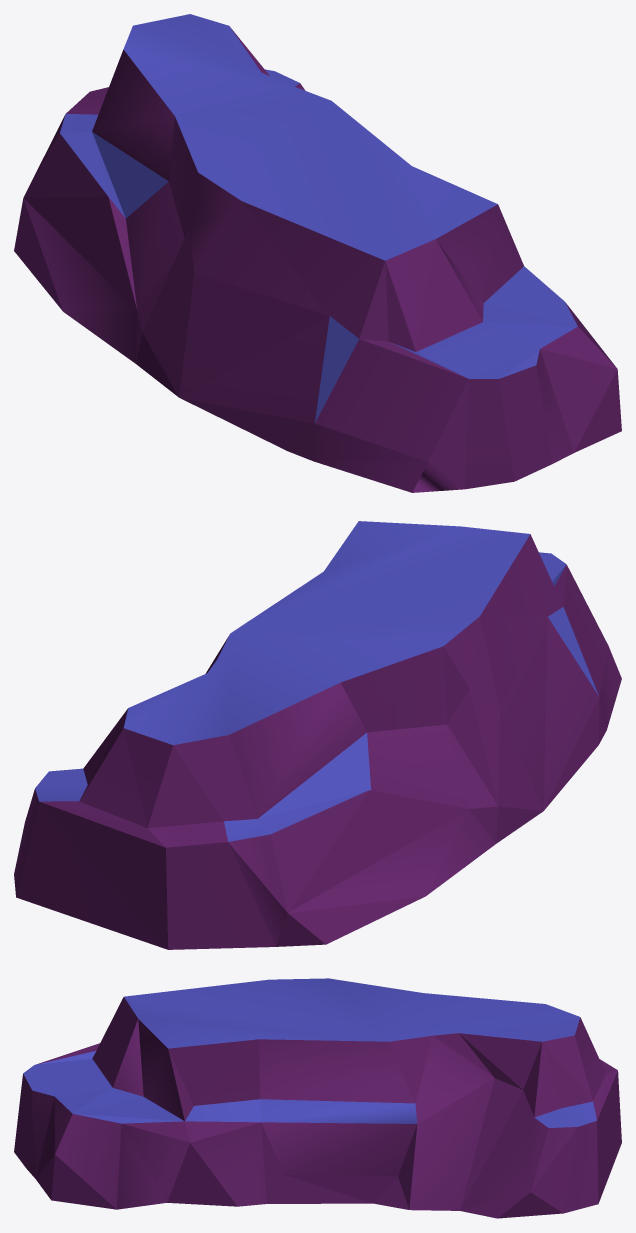
The model's file is Mountain_2.fbx.
The picture shows the model from 3 angles, top to bottom: view 1: azimuth 30°, elevation 25°; view 2: azimuth 150°, elevation 25°; view 3: azimuth 270°, elevation 25°; orthographic projection. The views are drawn at different scales.
Visible parts, largest first — view 1: Mountain_2; view 2: Mountain_2; view 3: Mountain_2.
Boxes of the visible parts, box(x1,y1,x2,y2) form: Mountain_2: box(14, 14, 621, 492); Mountain_2: box(14, 521, 621, 949); Mountain_2: box(14, 978, 621, 1218).
Size of the model in its own units: 10.42 by 21.12 by 5.18.
